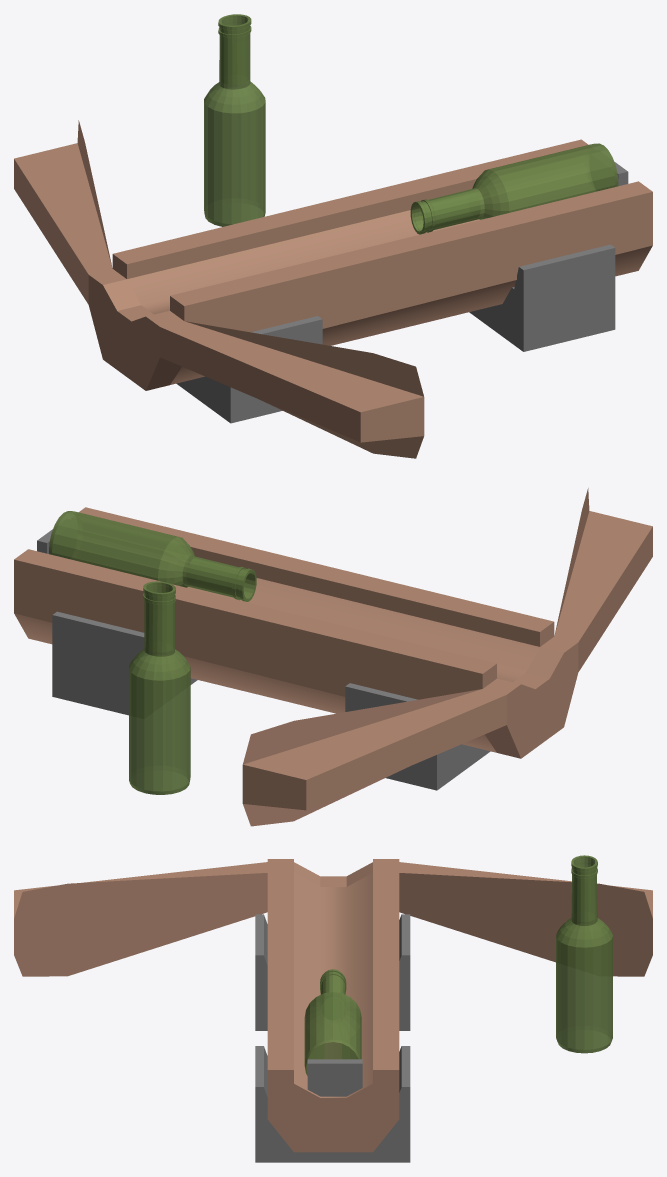
Rendered from BeerBottleCannon.fbx.
3 renders of one model, top to bottom at view 1: azimuth 30°, elevation 25°; view 2: azimuth 150°, elevation 25°; view 3: azimuth 270°, elevation 25°, orthographic. The views are drawn at different scales.
Parts seen in each view (by area): view 1: pCube4, pCylinder1; view 2: pCube4, pCylinder1; view 3: pCube4, pCylinder1.
Part boxes in pixels (left/top/right/bottom): pCube4: left=14, top=120, right=652, bottom=458; pCylinder1: left=204, top=14, right=265, bottom=226; pCube4: left=14, top=488, right=652, bottom=826; pCylinder1: left=129, top=581, right=190, bottom=794; pCube4: left=14, top=859, right=652, bottom=1162; pCylinder1: left=556, top=855, right=612, bottom=1053.
Bounding box in the file's own units: 23.89 × 10.54 × 29.11.
